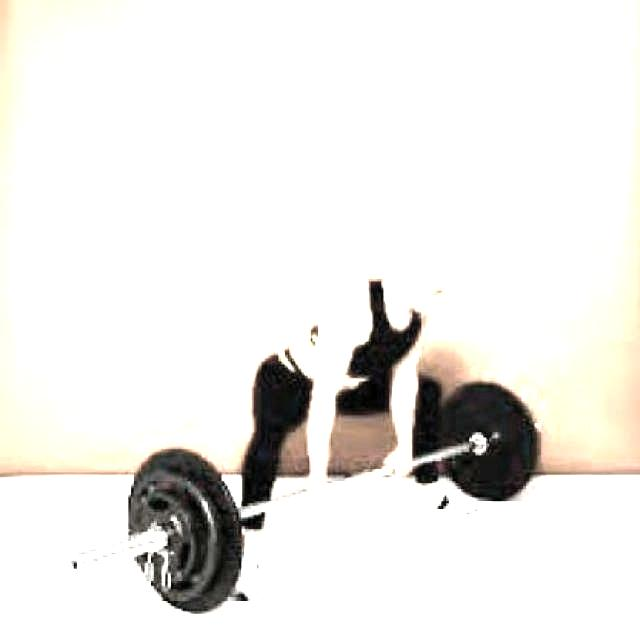barbell: (121, 440, 252, 619)
